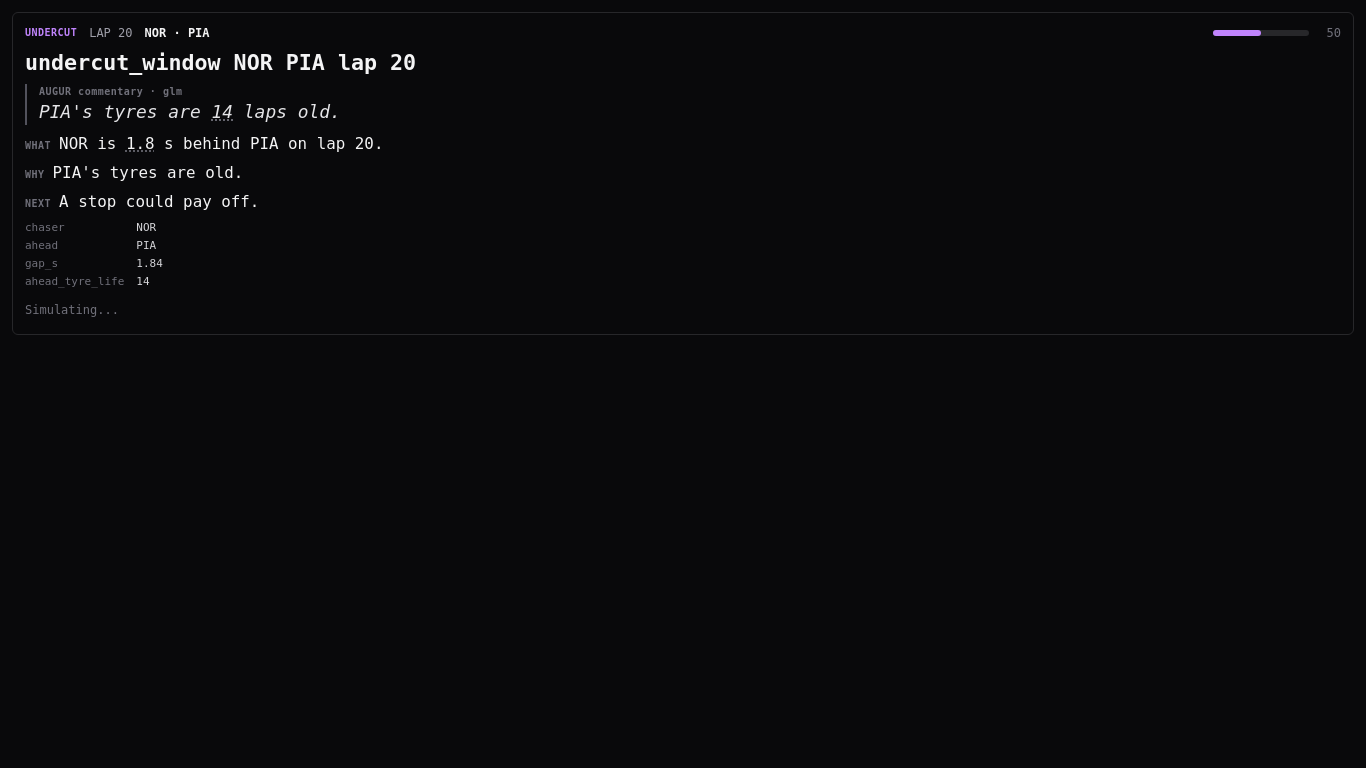
Clickable numbers with a chart popover › links the primary event's commentary; another number replaces the open popover
Expected: the element with test id "commentary-text" reads "PIA's tyres are 14 laps old.", [39,99,341,125]
Click the button named "14: show on chart" at (222, 112), box [212,99,233,125]
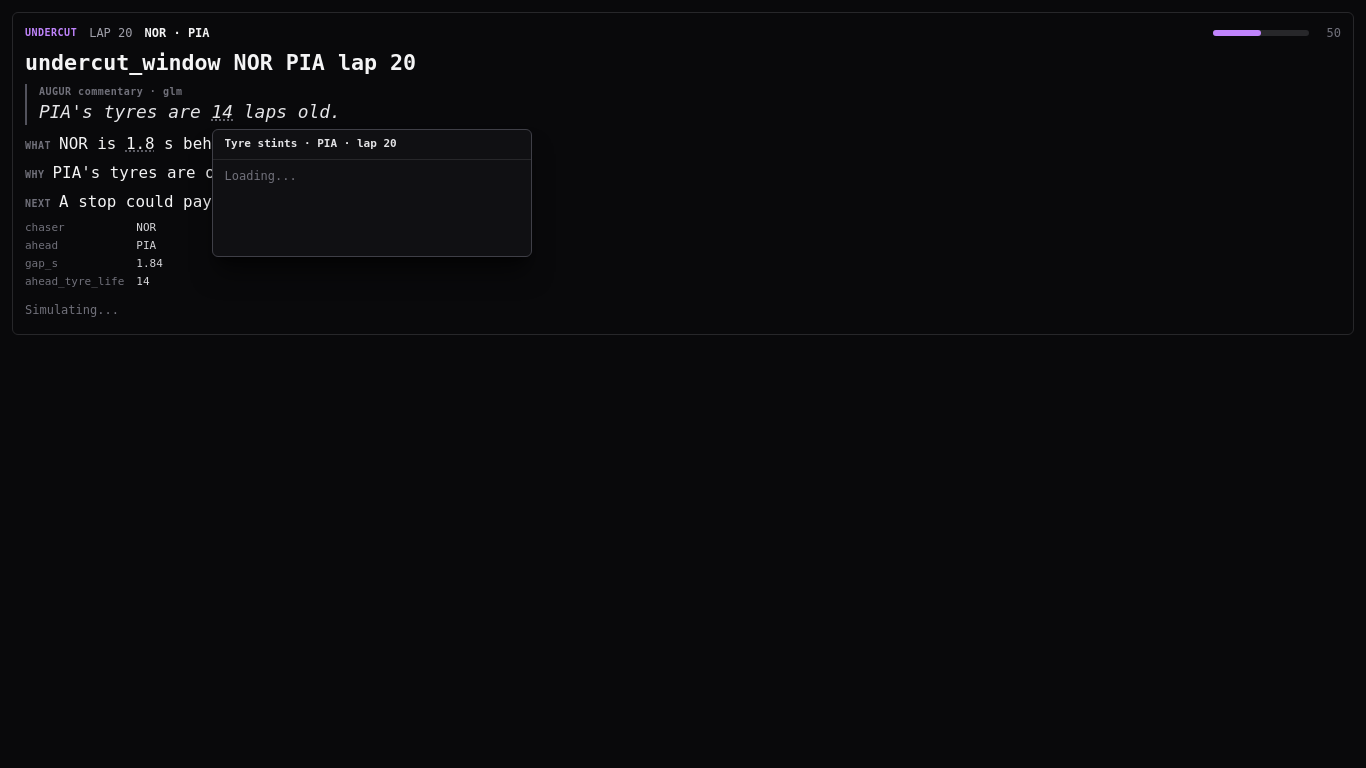
Result: the dialog "Tyre stints · PIA · lap 20" is shown at [212,129,532,257]
Press the mouse on the button named "1.8: show on chart" at (140, 145), box [126,133,154,156]
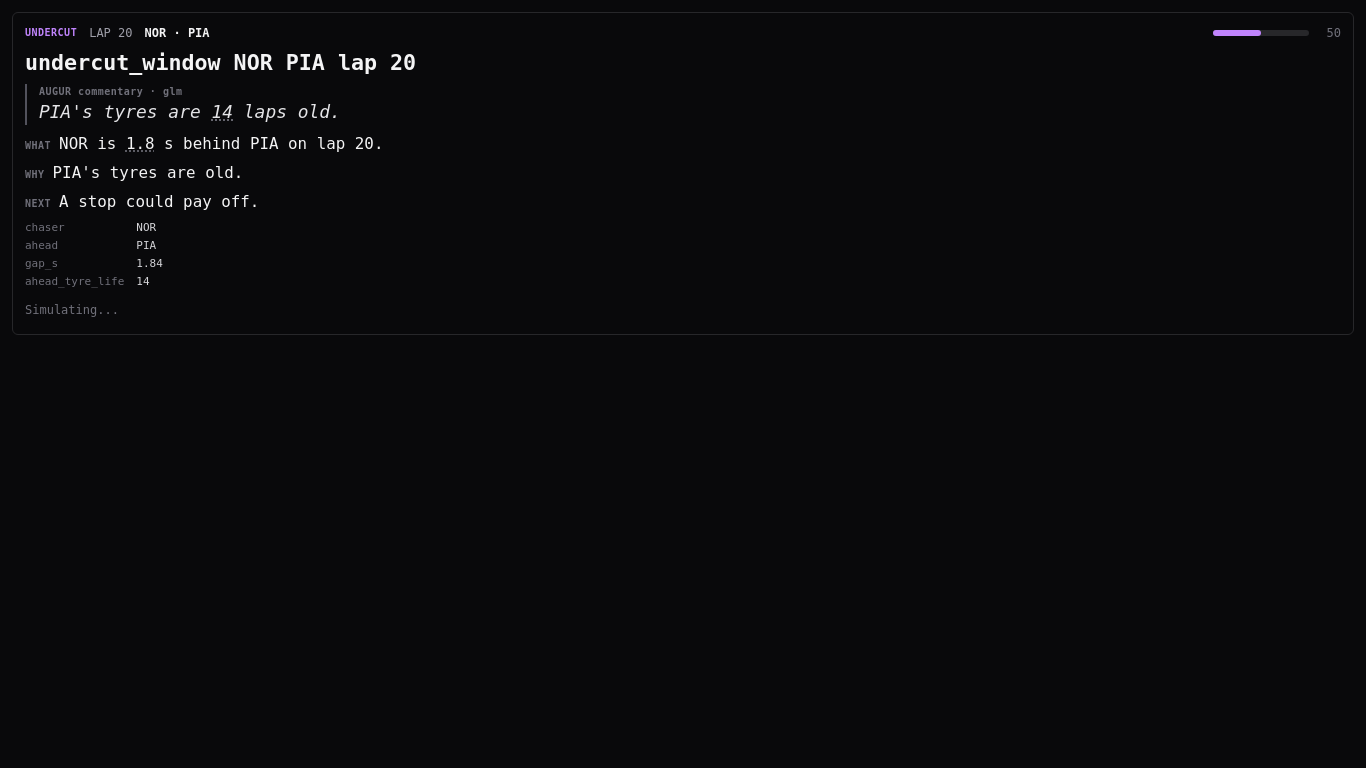
Click the button named "1.8: show on chart" at (140, 145), box [126,133,154,156]
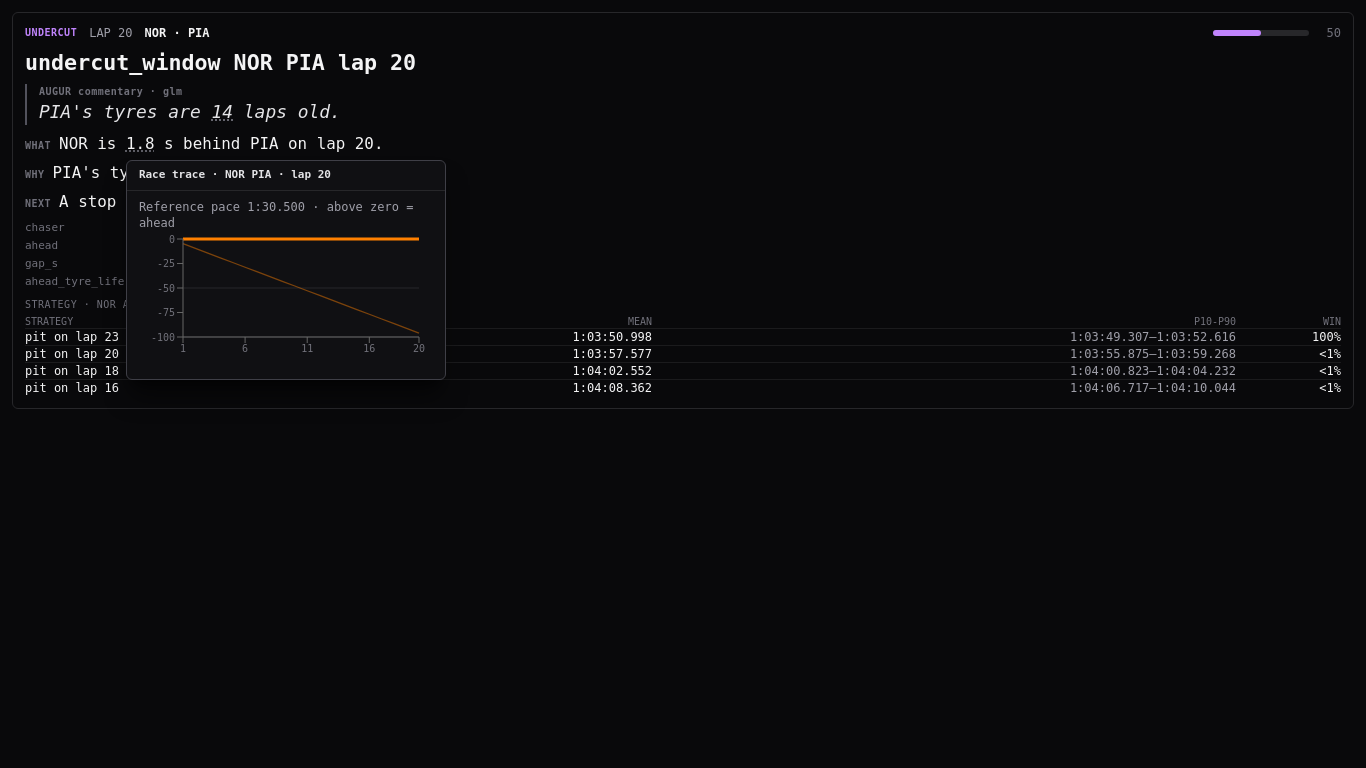
Result: the number of dialogs is 1 at [126,160,446,380]
